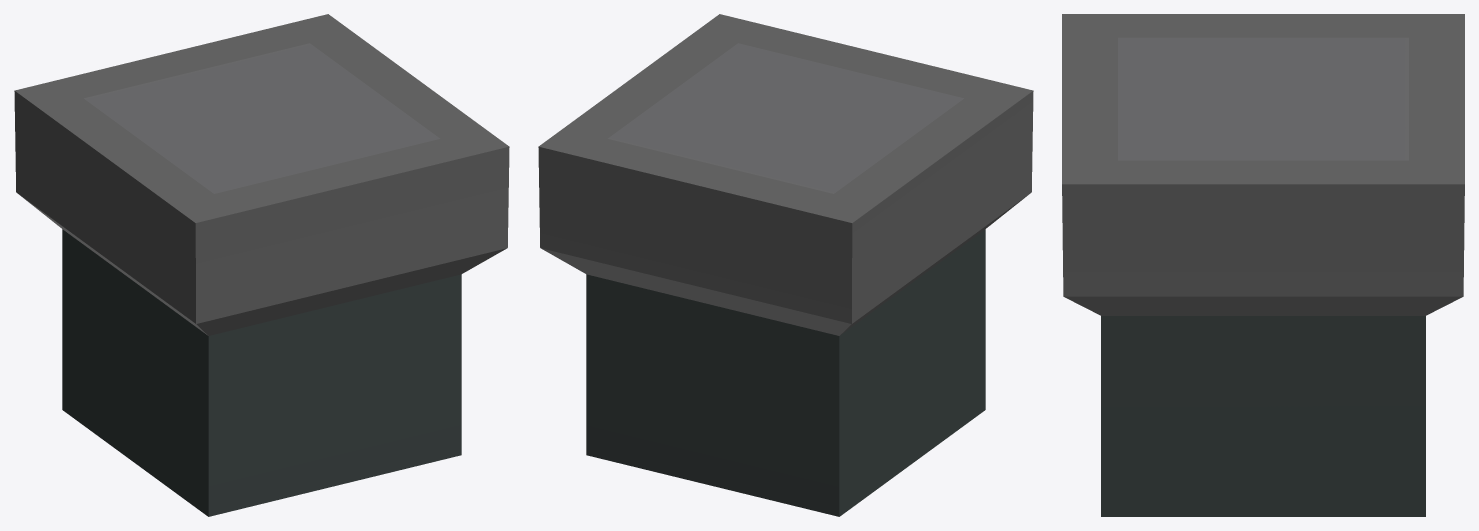
Rendered from Chimney_2_C_3.fbx.
3 views of the same model, side by side, from view 1: azimuth 30°, elevation 25°; view 2: azimuth 150°, elevation 25°; view 3: azimuth 270°, elevation 25° (orthographic). The views are drawn at different scales.
Visible parts, largest first — view 1: Chimney_2_C_3; view 2: Chimney_2_C_3; view 3: Chimney_2_C_3.
Part boxes in pixels (x1,y1,x2,y2): Chimney_2_C_3: (14,14,509,516); Chimney_2_C_3: (538,14,1033,516); Chimney_2_C_3: (1062,14,1464,516).
Size of the model in its own units: 63.29 by 60.52 by 63.29.
